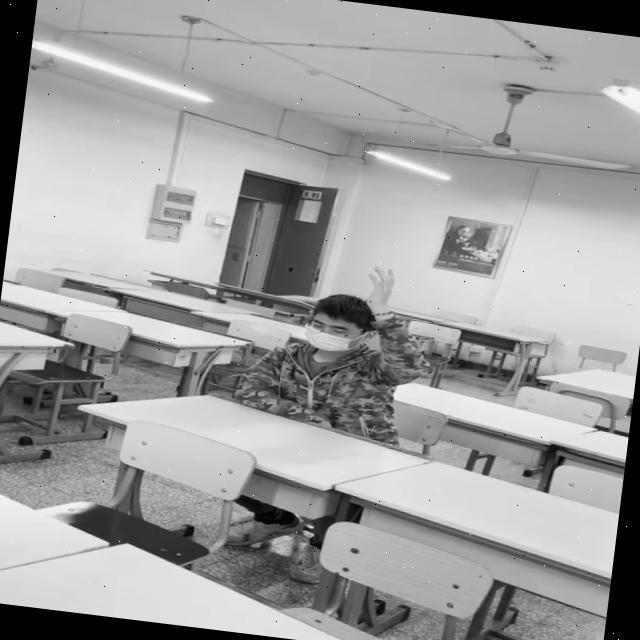study: (230, 253, 429, 440)
